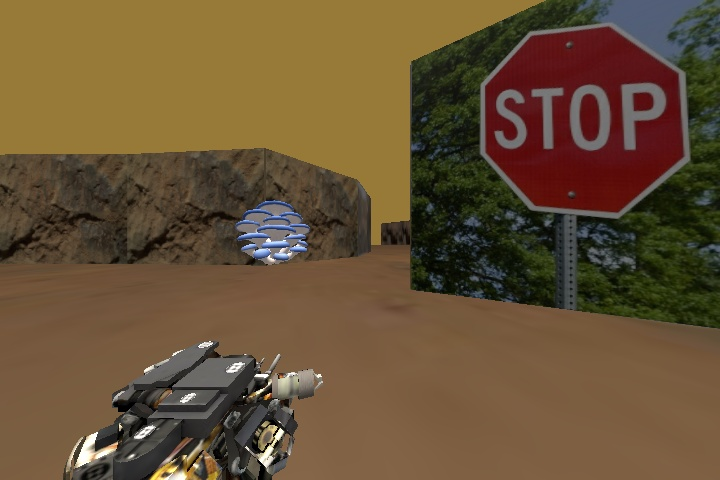mushroom: (234, 198, 310, 269)
sign: (480, 21, 690, 218)
